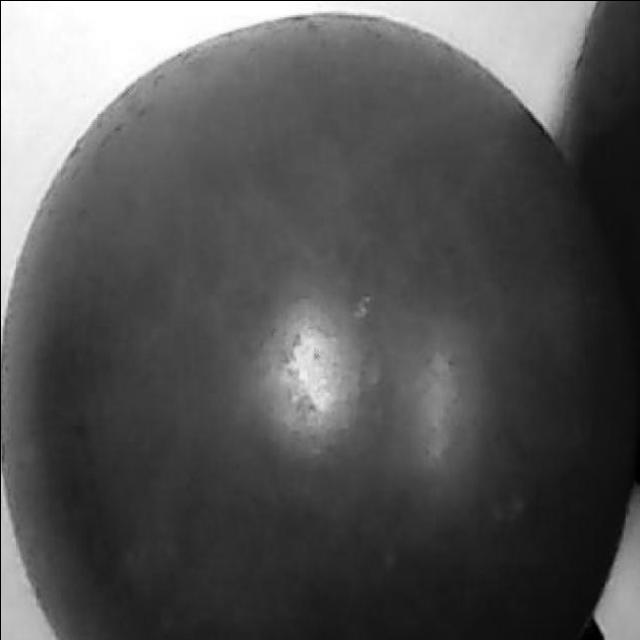Healthy: (1, 0, 604, 640)
